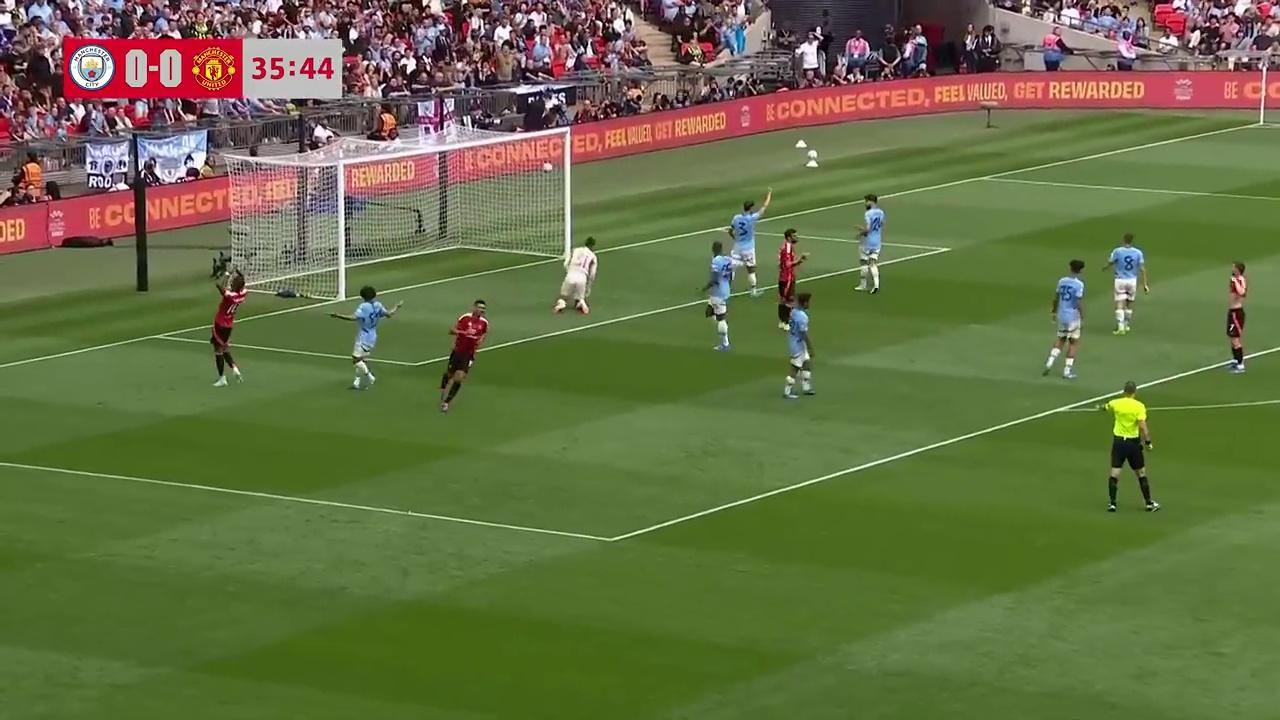player: (438, 298, 489, 417), (348, 280, 401, 391), (1042, 261, 1086, 385), (210, 267, 253, 386), (1102, 232, 1148, 334), (552, 237, 598, 317), (781, 296, 816, 400), (702, 240, 733, 351), (854, 195, 886, 294), (730, 199, 761, 294), (1225, 261, 1248, 373), (776, 228, 807, 299)
referee: (1102, 384, 1162, 513)
